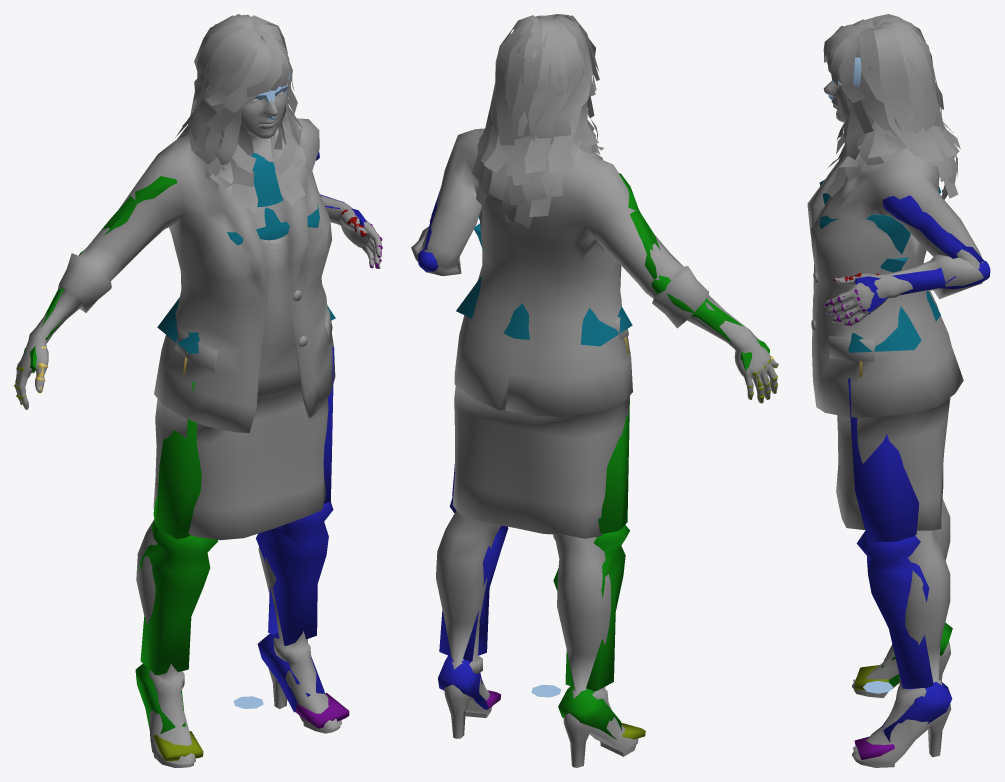
Rendered from lady.obj.
3 renders of one model, left to right at view 1: azimuth 30°, elevation 25°; view 2: azimuth 150°, elevation 25°; view 3: azimuth 270°, elevation 25°, orthographic. The views are drawn at different scales.
Visible parts, largest first — view 1: BWom0001_M3_Body, BWom0001_M3_Hair, RightLeg, LeftLeg, RightUpLeg, LeftFoot, Spine4, RightArm, RightFoot, Spine3, LeftUpLeg, Spine1 (+2 smaller); view 2: BWom0001_M3_Body, BWom0001_M3_Hair, RightLeg, RightUpLeg, Spine1, LeftLeg, RightFoot, LeftFoot, RightForeArm, RightArm; view 3: BWom0001_M3_Body, BWom0001_M3_Hair, LeftLeg, LeftUpLeg, LeftArm, Spine1, LeftFoot, LeftForeArm, Spine3, LeftToeBase, LeftHand, RightToeBase (+1 smaller).
Part boxes in pixels (bbox=[...]): BWom0001_M3_Body: bbox=[15, 80, 381, 767]; BWom0001_M3_Hair: bbox=[175, 14, 306, 212]; RightLeg: bbox=[139, 521, 218, 675]; LeftLeg: bbox=[256, 501, 333, 645]; RightUpLeg: bbox=[153, 381, 201, 539]; LeftFoot: bbox=[257, 631, 324, 712]; Spine4: bbox=[251, 153, 282, 207]; RightArm: bbox=[90, 176, 177, 243]; RightFoot: bbox=[135, 663, 185, 733]; Spine3: bbox=[227, 203, 319, 245]; LeftUpLeg: bbox=[323, 346, 333, 503]; Spine1: bbox=[157, 297, 335, 353]; BWom0001_M3_Body: bbox=[411, 27, 778, 767]; BWom0001_M3_Hair: bbox=[472, 14, 603, 228]; RightLeg: bbox=[553, 525, 629, 691]; RightUpLeg: bbox=[598, 352, 630, 533]; Spine1: bbox=[456, 276, 632, 346]; LeftLeg: bbox=[439, 497, 508, 661]; RightFoot: bbox=[558, 686, 621, 739]; LeftFoot: bbox=[438, 655, 488, 710]; RightForeArm: bbox=[651, 275, 743, 341]; RightArm: bbox=[619, 173, 660, 279]; BWom0001_M3_Body: bbox=[807, 80, 983, 767]; BWom0001_M3_Hair: bbox=[823, 14, 960, 199]; LeftLeg: bbox=[856, 531, 933, 689]; LeftUpLeg: bbox=[848, 378, 919, 542]; LeftArm: bbox=[883, 195, 983, 263]; Spine1: bbox=[848, 291, 940, 352]; LeftFoot: bbox=[881, 682, 952, 741]; LeftForeArm: bbox=[892, 260, 990, 294]; Spine3: bbox=[819, 179, 910, 254]; LeftToeBase: bbox=[854, 736, 894, 759]; LeftHand: bbox=[854, 276, 887, 312]; RightToeBase: bbox=[854, 665, 888, 690].
Size of the model in its own units: 0.8802 by 1.74 by 0.408.
